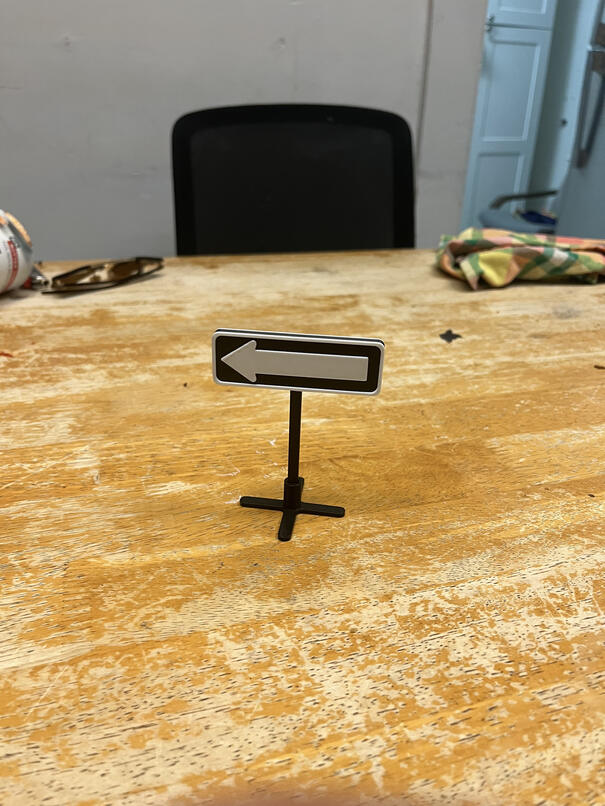sign_oneway_left: (205, 331, 390, 400)
